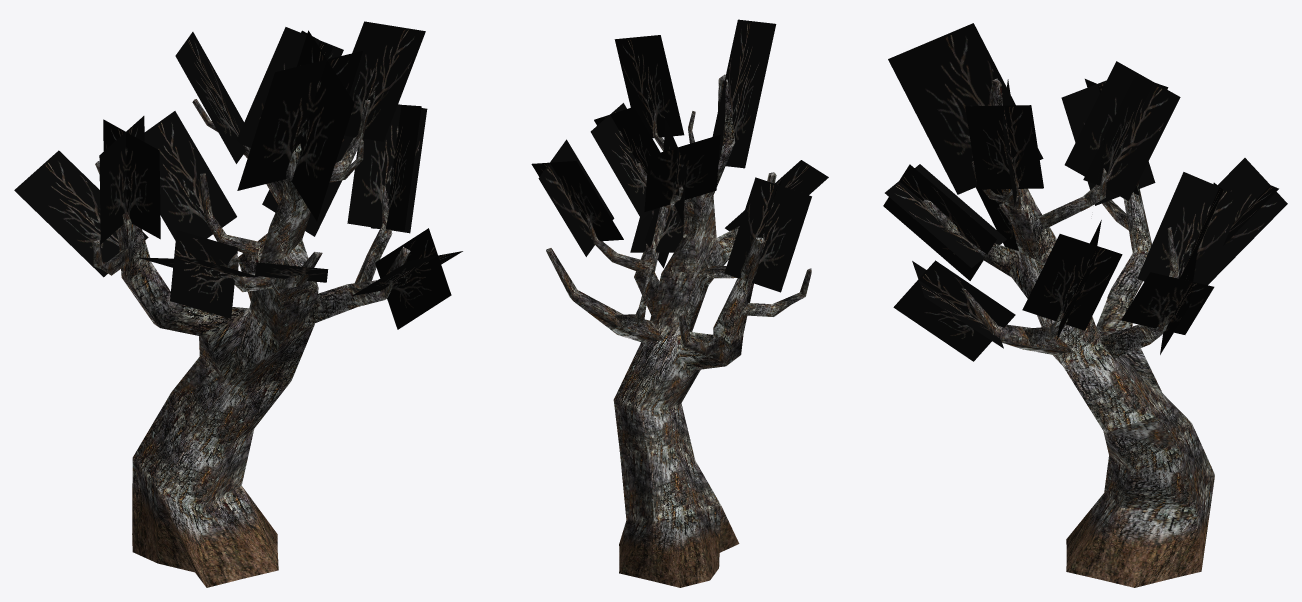
File: hr_tree02.glb
The picture shows the model from 3 angles, left to right: view 1: azimuth 30°, elevation 25°; view 2: azimuth 150°, elevation 25°; view 3: azimuth 270°, elevation 25°; orthographic projection. The views are drawn at different scales.
Parts seen in each view (by area): view 1: hr_tree02-col; view 2: hr_tree02-col; view 3: hr_tree02-col.
Part boxes in pixels (<box>): hr_tree02-col: <box>14,21,462,587</box>; hr_tree02-col: <box>531,19,828,587</box>; hr_tree02-col: <box>883,23,1287,587</box>.
Size of the model in its own units: 9.44 by 15.63 by 10.62.
3 materials, 3 textured.
